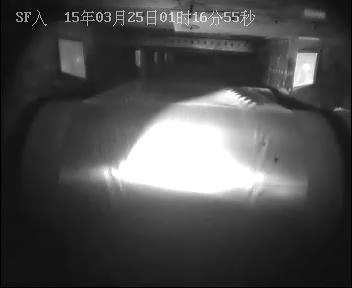wrinkled steel: (242, 126, 267, 206), (224, 84, 272, 116), (99, 152, 134, 192)
